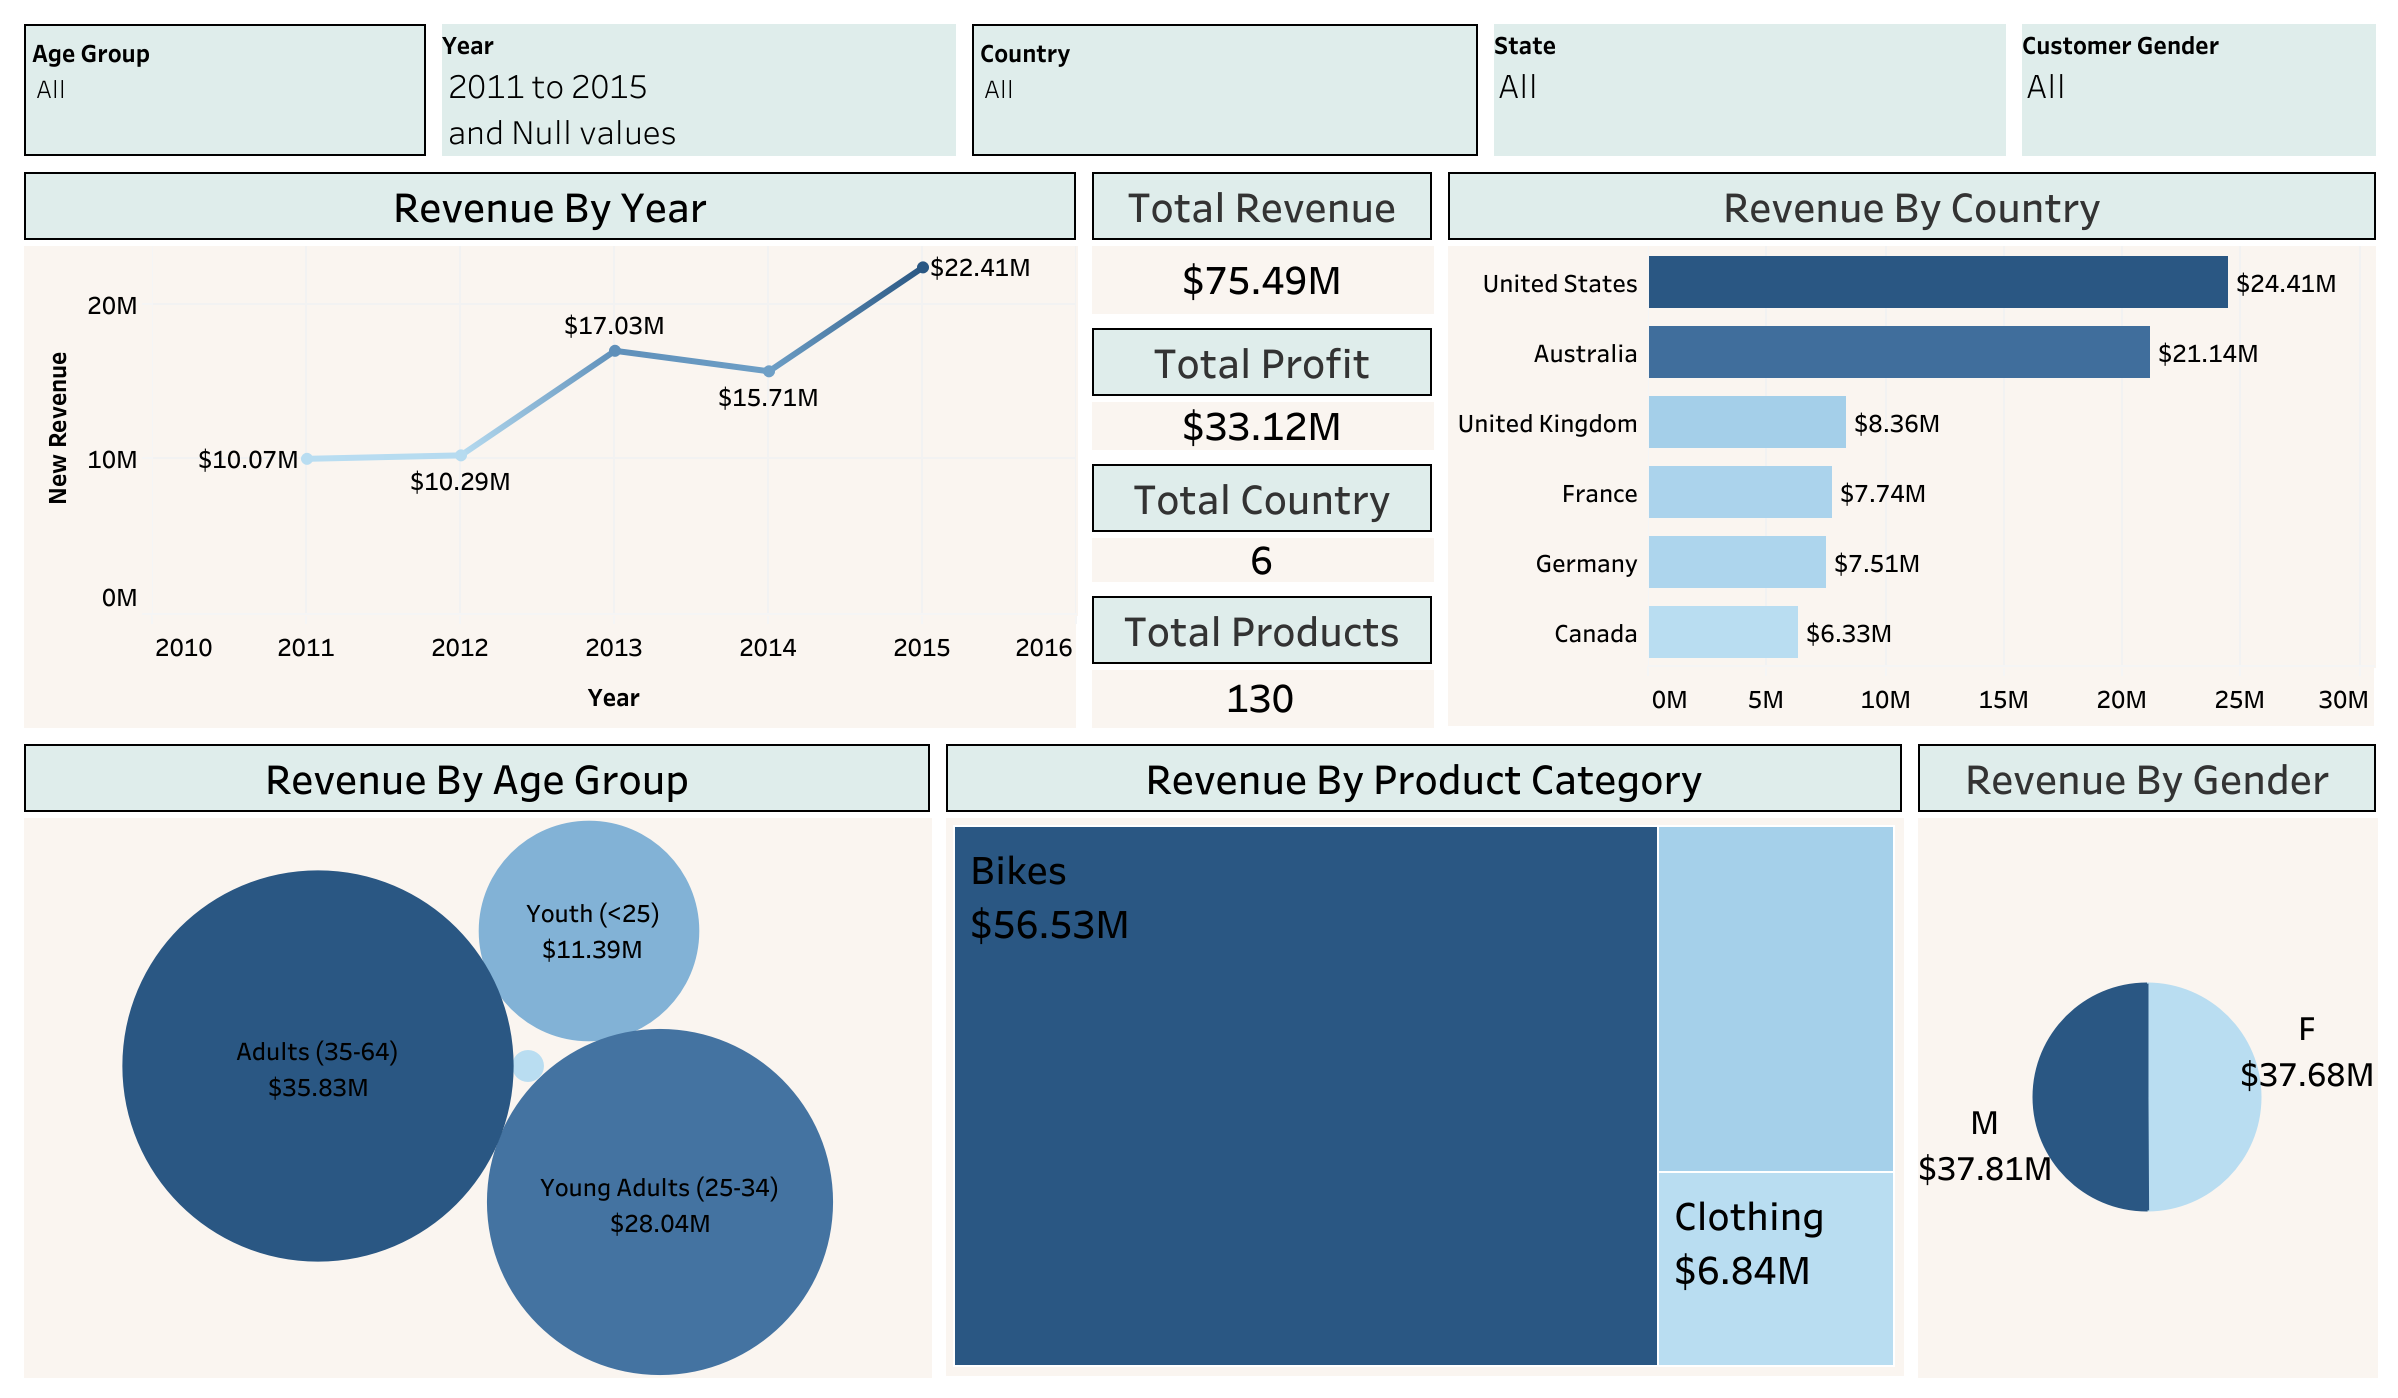

This screenshot's page, from the dashboard's own definition file:
{"tool":"tableau","page":{"name":"Revenue Dashboard","canvas":[1200,700],"ordinal":1},"visuals":[{"type":"filter","title":"Revenue By Year","param":"[federated.0jcqpx61dg5f2912zdho21k6b4t5].[none:Age_Group:nk]","box":[8,8,209,74]},{"type":"filter","title":"Revenue By Gender","param":"[federated.0jcqpx61dg5f2912zdho21k6b4t5].[none:Year:qk]","box":[217,8,265,74]},{"type":"filter","title":"Revenue By Year","param":"[federated.0jcqpx61dg5f2912zdho21k6b4t5].[none:Country:nk]","box":[482,8,261,74]},{"type":"filter","title":"Revenue By Gender","param":"[federated.0jcqpx61dg5f2912zdho21k6b4t5].[none:State:nk]","box":[743,8,264,74]},{"type":"filter","title":"Revenue By Gender","param":"[federated.0jcqpx61dg5f2912zdho21k6b4t5].[none:Customer_Gender:nk]","box":[1007,8,185,74]},{"type":"worksheet","title":"Revenue By Year","mark":"Automatic","rows":["Calculation_1047720274414223361"],"cols":["Year"],"box":[8,82,534,286]},{"type":"worksheet","title":"Total Revenue","mark":"Automatic","box":[542,82,178,78]},{"type":"worksheet","title":"Revenue By Country","mark":"Automatic","rows":["Country"],"cols":["Calculation_1047720274414223361"],"box":[720,82,472,286]},{"type":"worksheet","title":"Total Profit","mark":"Automatic","box":[542,160,178,68]},{"type":"worksheet","title":"Total Country","mark":"Automatic","box":[542,228,178,66]},{"type":"worksheet","title":"Total Products","mark":"Automatic","box":[542,294,178,74]},{"type":"worksheet","title":"Revenue By Age Group","mark":"Circle","box":[8,368,461,324]},{"type":"worksheet","title":"Revenue By Product Category","mark":"Automatic","box":[469,368,486,324]},{"type":"worksheet","title":"Revenue By Gender","mark":"Pie","box":[955,368,237,324]}]}

Visuals, with their boxes in screenshot pixels (x1, y1, x2, y2), scaled from the page's 1200x700 canvas onto the 2398x1398 screenshot:
"Revenue By Year" filter: x1=16, y1=16, x2=434, y2=164
"Revenue By Gender" filter: x1=434, y1=16, x2=963, y2=164
"Revenue By Year" filter: x1=963, y1=16, x2=1485, y2=164
"Revenue By Gender" filter: x1=1485, y1=16, x2=2012, y2=164
"Revenue By Gender" filter: x1=2012, y1=16, x2=2382, y2=164
"Revenue By Year" worksheet: x1=16, y1=164, x2=1083, y2=735
"Total Revenue" worksheet: x1=1083, y1=164, x2=1439, y2=320
"Revenue By Country" worksheet: x1=1439, y1=164, x2=2382, y2=735
"Total Profit" worksheet: x1=1083, y1=320, x2=1439, y2=455
"Total Country" worksheet: x1=1083, y1=455, x2=1439, y2=587
"Total Products" worksheet: x1=1083, y1=587, x2=1439, y2=735
"Revenue By Age Group" worksheet (Circle marks): x1=16, y1=735, x2=937, y2=1382
"Revenue By Product Category" worksheet: x1=937, y1=735, x2=1908, y2=1382
"Revenue By Gender" worksheet (Pie marks): x1=1908, y1=735, x2=2382, y2=1382
